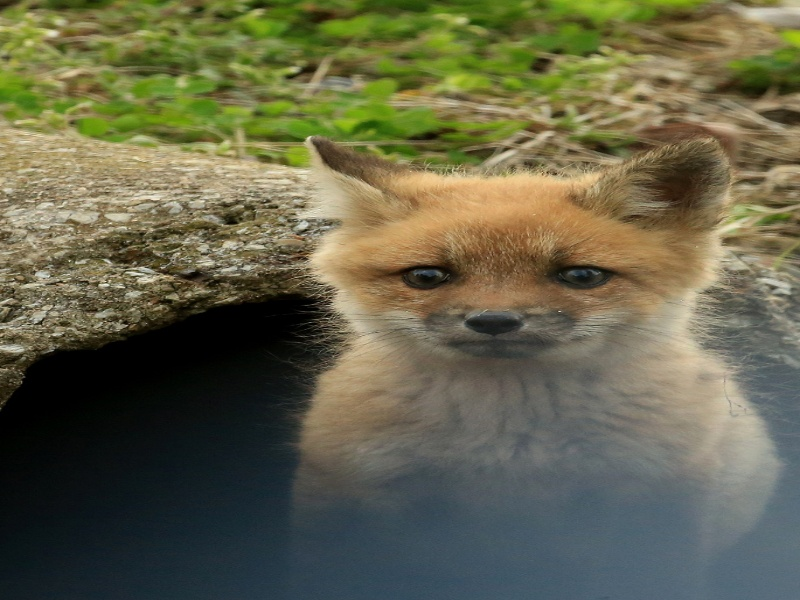fox: (290, 131, 778, 571)
